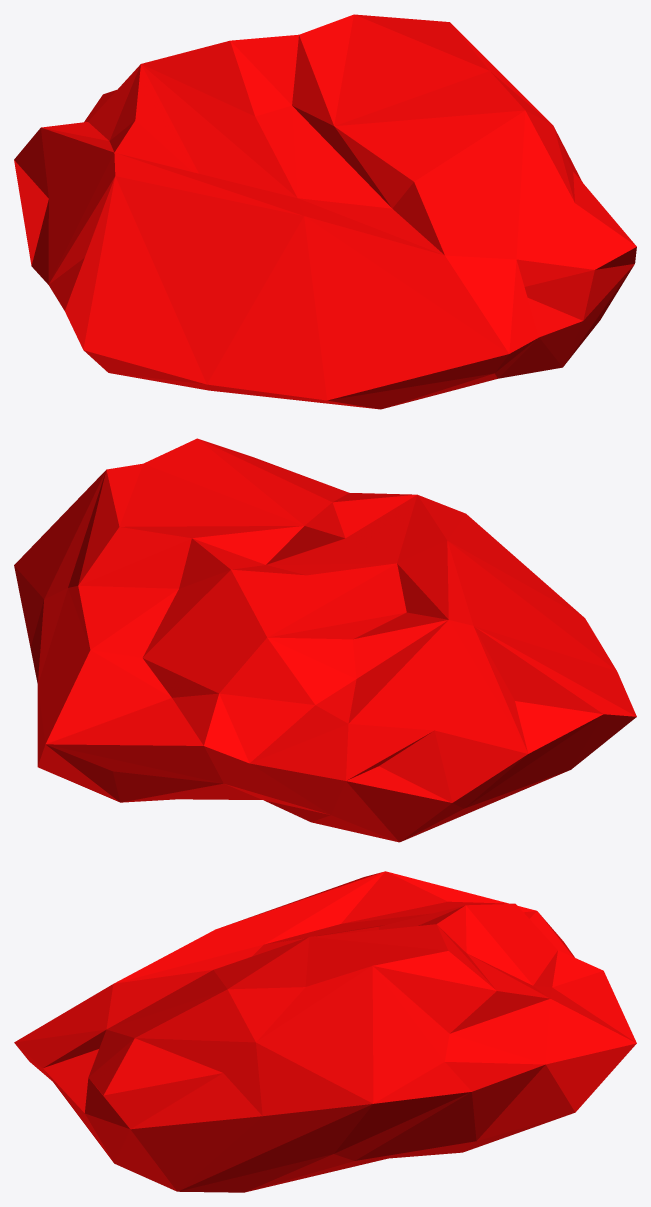
The model's file is meteor_red_form_core_02.glb.
3 renders of one model, top to bottom at view 1: azimuth 30°, elevation 25°; view 2: azimuth 150°, elevation 25°; view 3: azimuth 270°, elevation 25°, orthographic. The views are drawn at different scales.
Visible parts, largest first — view 1: Mesh1.003; view 2: Mesh1.003; view 3: Mesh1.003.
Part boxes in pixels (x1,y1,x2,y2): Mesh1.003: (14,14,636,409); Mesh1.003: (14,438,636,842); Mesh1.003: (14,871,636,1192).
Size of the model in its own units: 1.51 by 0.6798 by 1.74.
